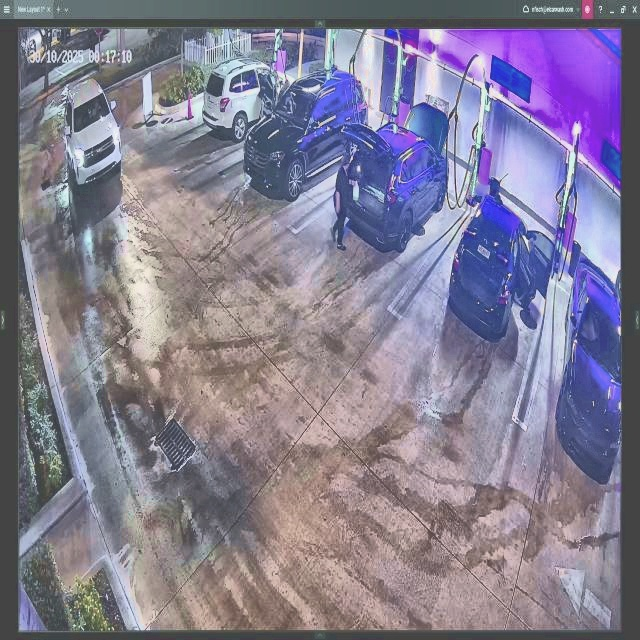Car: (348, 102, 448, 253), (452, 195, 552, 345), (247, 72, 368, 193)
